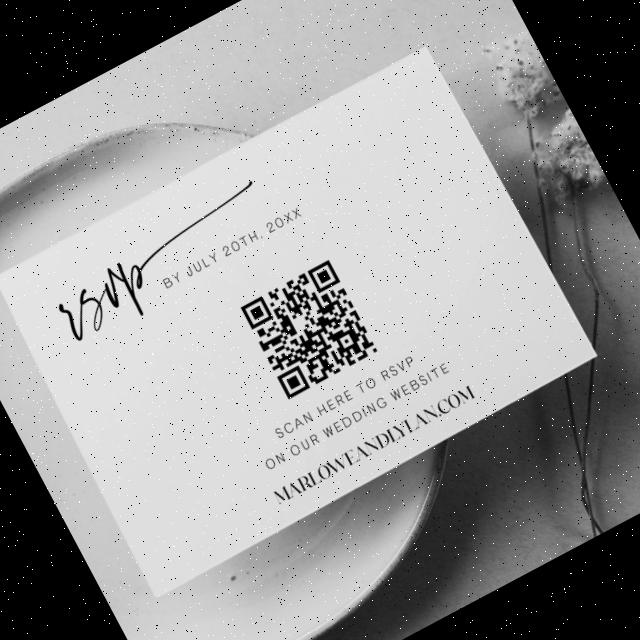QR-codes: (238, 256, 382, 400)
